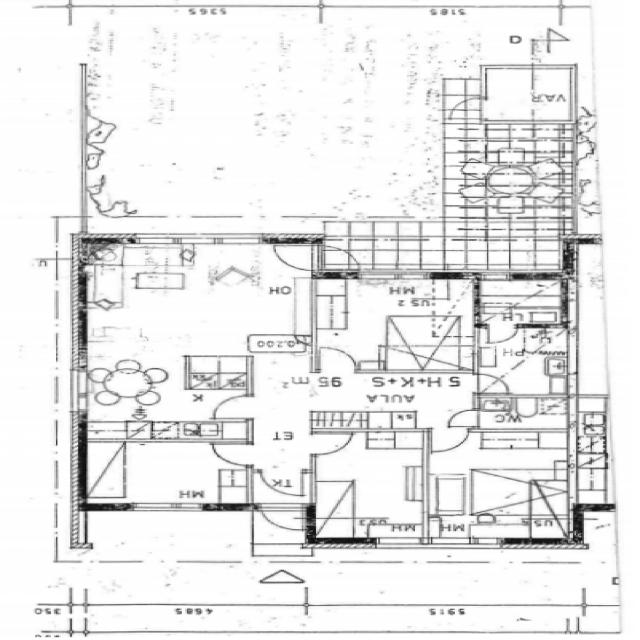door: (260, 504, 302, 536), (311, 246, 366, 270), (270, 246, 324, 270), (260, 470, 302, 497), (431, 428, 468, 454), (210, 396, 253, 418), (212, 444, 253, 465), (320, 349, 355, 373), (445, 98, 485, 119), (312, 434, 352, 454), (475, 374, 513, 394), (488, 324, 518, 346), (447, 411, 480, 426)
